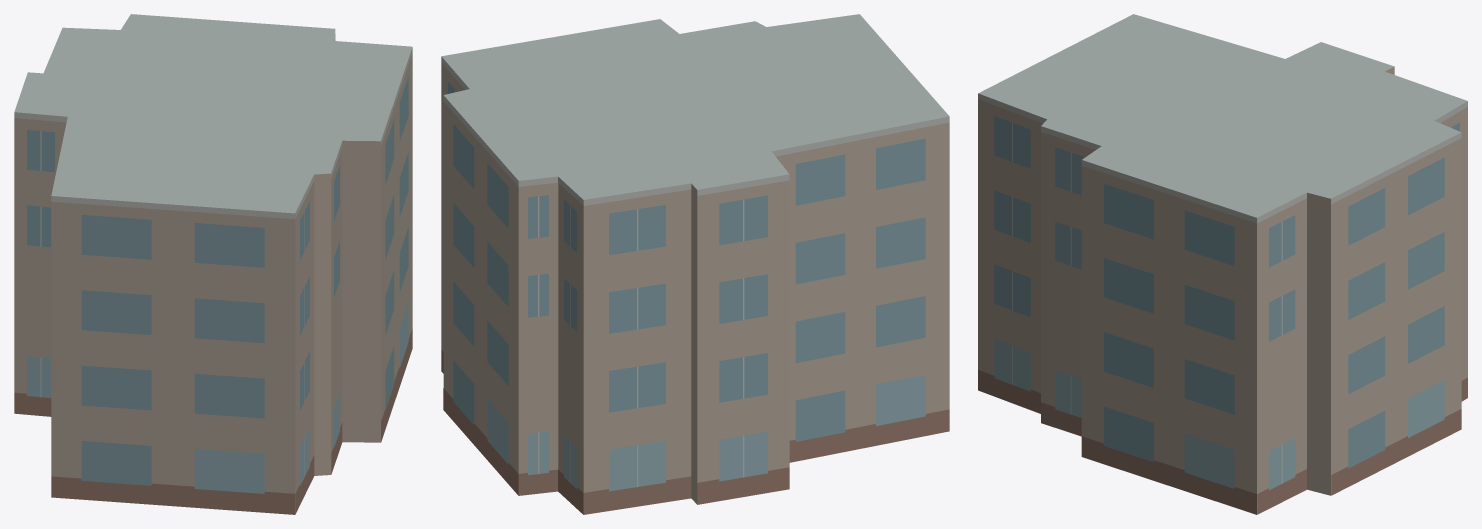
Rendered from survey-upis-32695689.glb.
3 views of the same model, side by side, from view 1: azimuth 30°, elevation 25°; view 2: azimuth 150°, elevation 25°; view 3: azimuth 270°, elevation 25° (orthographic). The views are drawn at different scales.
Parts seen in each view (by area): view 1: survey-upis-32695689.tmp; view 2: survey-upis-32695689.tmp; view 3: survey-upis-32695689.tmp.
Part boxes in pixels (left/top/right/bottom): survey-upis-32695689.tmp: left=14, top=14, right=412, bottom=514; survey-upis-32695689.tmp: left=441, top=14, right=949, bottom=514; survey-upis-32695689.tmp: left=978, top=14, right=1467, bottom=514.
Bounding box in the file's own units: 18.7 × 12.7 × 18.99.
